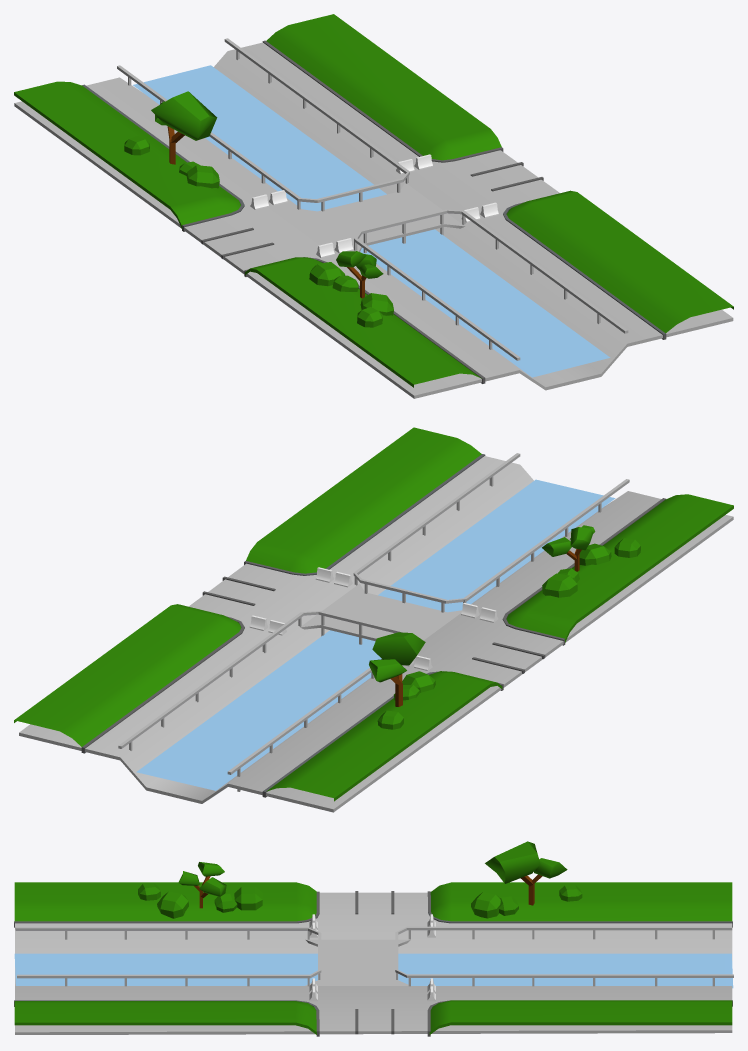
File: L1 Waterway..fbx
3 renders of one model, top to bottom at view 1: azimuth 30°, elevation 25°; view 2: azimuth 150°, elevation 25°; view 3: azimuth 270°, elevation 25°, orthographic. The views are drawn at different scales.
Parts seen in each view (by area): view 1: pCube7493, pPlane1117, pCube7507, pCube7499, pCube7513, pCube7502, pCube7519, pCube7482, pCube7485, pCube7517, pCube7511, pCube7477 (+3 smaller); view 2: pCube7493, pPlane1117, pCube7499, pCube7507, pCube7502, pCube7513, pCube7519, pCube7482, pCube7485, pCube7517, pCube7511, pCube7506 (+3 smaller); view 3: pCube7493, pPlane1117, pCube7513, pCube7502, pCube7507, pCube7499, pCube7519, pCube7485, pCube7482, pCube7517, pCube7511, pCube7508 (+8 smaller).
Part boxes in pixels (left/top/right/bottom): pCube7493: left=14, top=42, right=733, bottom=398; pPlane1117: left=133, top=65, right=610, bottom=377; pCube7507: left=266, top=14, right=501, bottom=160; pCube7499: left=506, top=190, right=733, bottom=333; pCube7513: left=14, top=81, right=240, bottom=229; pCube7502: left=245, top=257, right=481, bottom=387; pCube7519: left=300, top=183, right=464, bottom=251; pCube7482: left=354, top=209, right=628, bottom=360; pCube7485: left=117, top=38, right=409, bottom=202; pCube7517: left=151, top=91, right=217, bottom=164; pCube7511: left=336, top=251, right=383, bottom=298; pCube7477: left=262, top=40, right=503, bottom=162; pCube7493: left=19, top=456, right=733, bottom=812; pPlane1117: left=136, top=479, right=615, bottom=790; pCube7499: left=246, top=427, right=481, bottom=573; pCube7507: left=14, top=604, right=241, bottom=746; pCube7502: left=506, top=494, right=733, bottom=642; pCube7513: left=266, top=671, right=502, bottom=801; pCube7519: left=300, top=584, right=462, bottom=641; pCube7482: left=353, top=453, right=629, bottom=603; pCube7485: left=118, top=611, right=406, bottom=774; pCube7517: left=369, top=632, right=425, bottom=706; pCube7511: left=542, top=525, right=595, bottom=571; pCube7506: left=244, top=454, right=485, bottom=575; pCube7493: left=15, top=892, right=732, bottom=1034; pPlane1117: left=14, top=953, right=733, bottom=988; pCube7513: left=430, top=882, right=732, bottom=921; pCube7502: left=14, top=882, right=316, bottom=921; pCube7507: left=429, top=1000, right=732, bottom=1034; pCube7499: left=14, top=1001, right=316, bottom=1034; pCube7519: left=305, top=939, right=410, bottom=985; pCube7485: left=395, top=926, right=733, bottom=977; pCube7482: left=15, top=927, right=321, bottom=978; pCube7517: left=485, top=841, right=567, bottom=905; pCube7511: left=178, top=862, right=226, bottom=908; pCube7508: left=14, top=891, right=319, bottom=927.
Bounding box in the file's own units: 12.31 × 3.85 × 26.64.
1 material, 1 textured.
